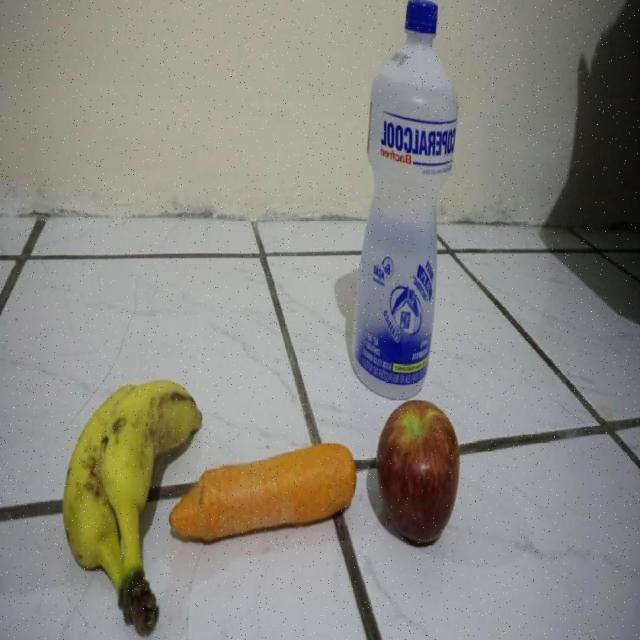AlcoholBottle: (346, 0, 458, 400)
Apple: (373, 404, 460, 548)
Banana: (42, 369, 170, 638)
Carrot: (169, 438, 357, 562)
